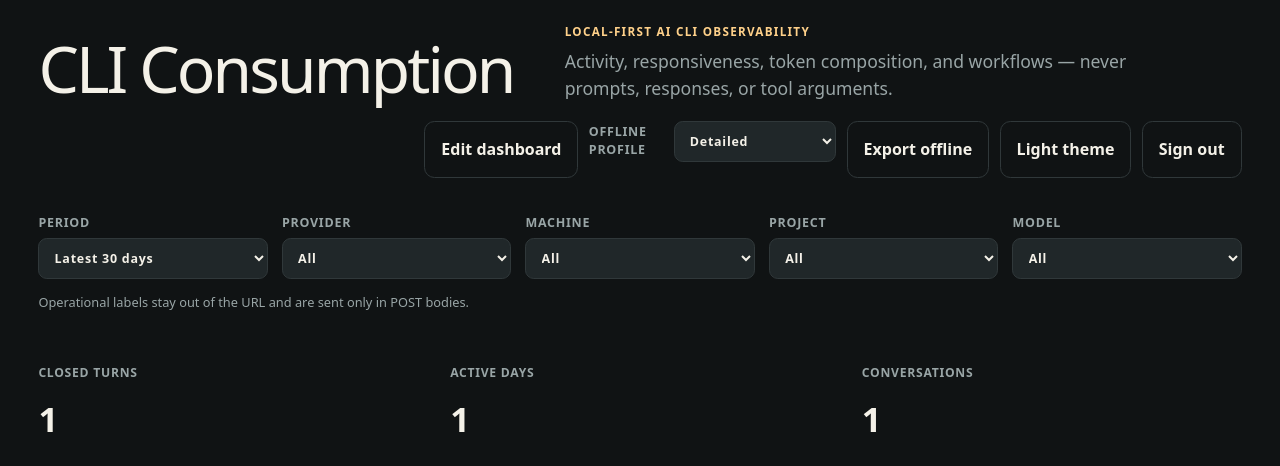
Test: persistent dashboard › keeps an undoable draft across filters and saves it with its baseline ETag
The width and height of the screenshot is (1280, 466).
Step 1. Click the button "Edit dashboard" → click(501, 149), box [424, 121, 578, 178]
(page scrolled)
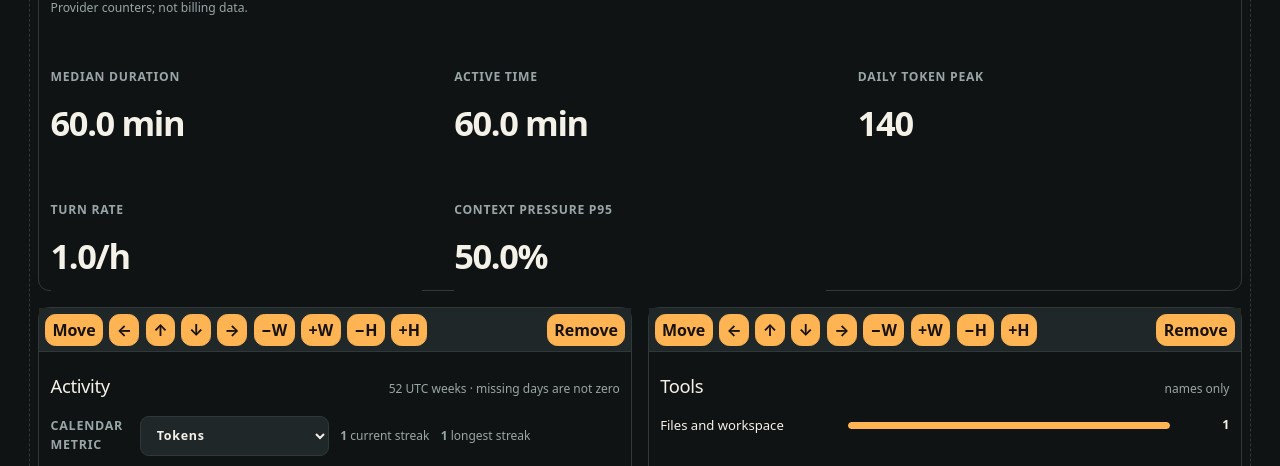
Step 2. Click the button with aria-label "Remove Tools" → click(1196, 330), box [1156, 314, 1235, 346]
(page scrolled)
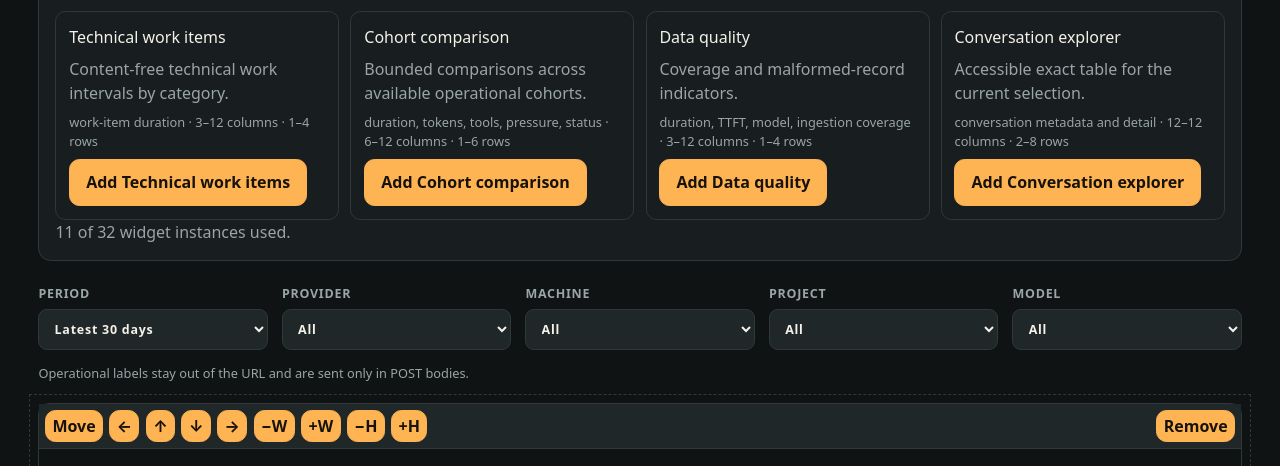
Step 3. Select "private-project-label" in the dropdown labelled "Project" → (884, 329), box [769, 309, 998, 350]
(page scrolled)
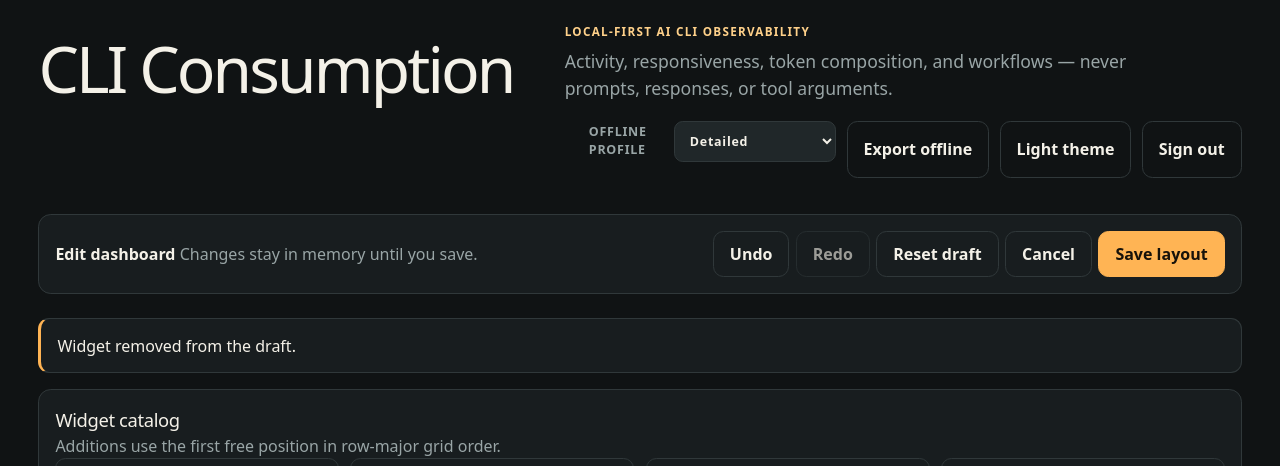
Step 4. Click the button "Undo" → click(751, 254), box [713, 231, 789, 278]
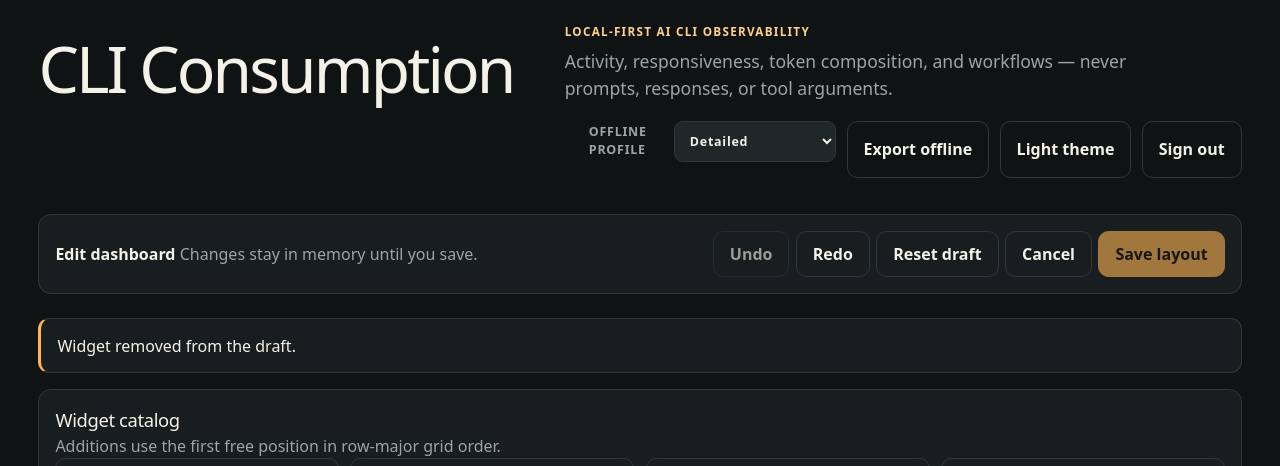
Step 5. Click the button "Redo" → click(833, 254), box [796, 231, 870, 278]
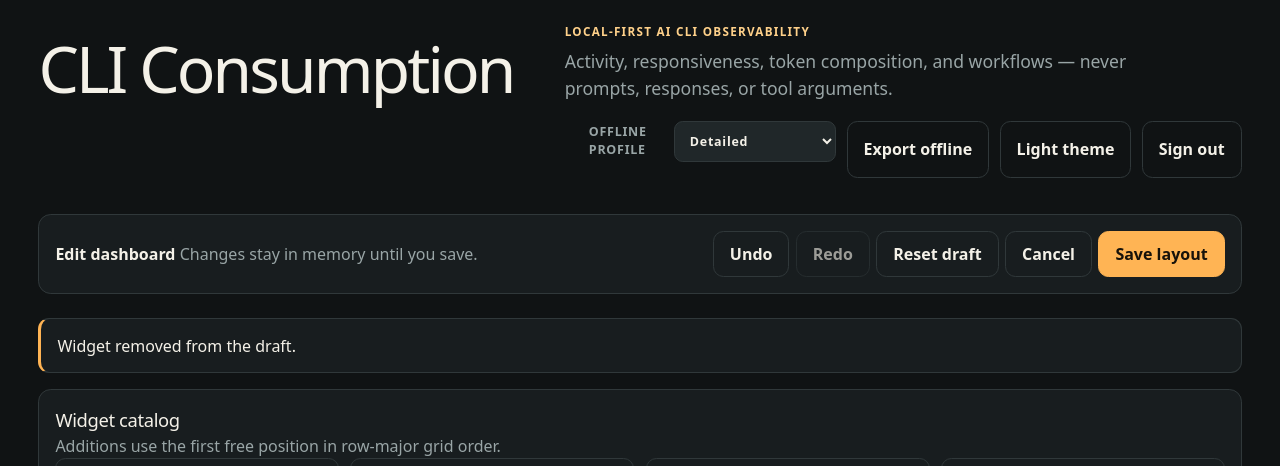
Step 6. Click the button "Save layout" → click(1162, 254), box [1098, 231, 1225, 278]
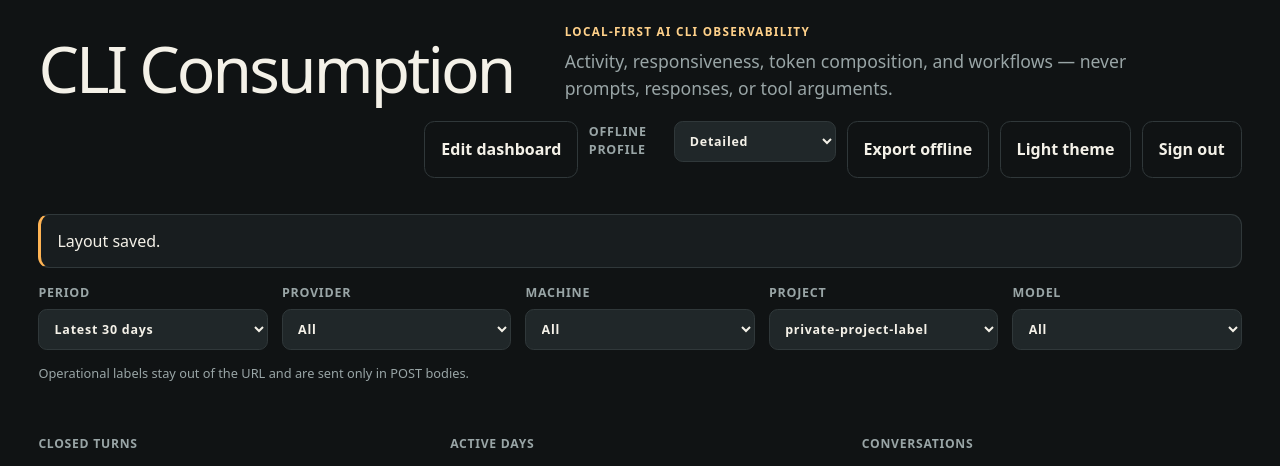
Expected: the text "Layout saved." is shown, [57, 229, 160, 253]
Expected: the button "Save layout" is gone
